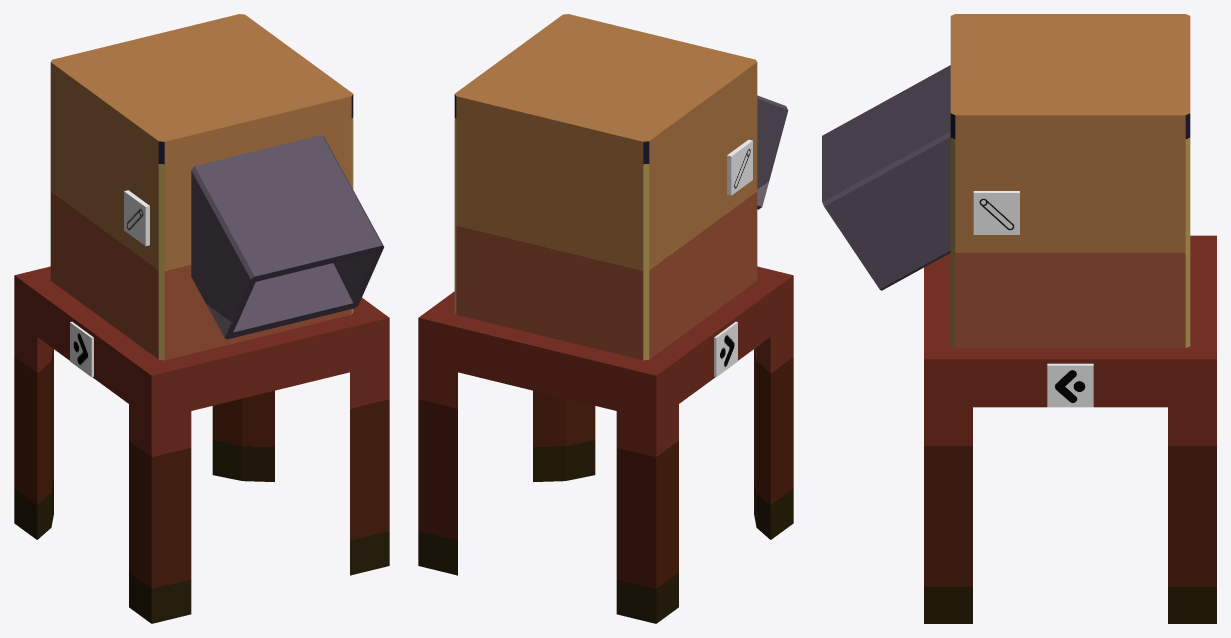
File: ClipGenerator.fbx
3 views of the same model, side by side, from view 1: azimuth 30°, elevation 25°; view 2: azimuth 150°, elevation 25°; view 3: azimuth 270°, elevation 25° (orthographic). The views are drawn at different scales.
Visible parts, largest first — view 1: Cube.003, Cube.001, Plane.002, Plane.001; view 2: Cube.003, Cube.001, Plane.002, Plane.001; view 3: Cube.003, Cube.001, Plane.004, Plane.003.
Boxes of the visible parts, x1,y1,x2,y2 form: Cube.003: (14, 14, 389, 623); Cube.001: (191, 135, 383, 339); Plane.002: (124, 190, 149, 246); Plane.001: (70, 321, 93, 377); Cube.003: (418, 14, 793, 623); Cube.001: (757, 95, 788, 209); Plane.002: (727, 139, 752, 195); Plane.001: (714, 321, 737, 377); Cube.003: (924, 14, 1216, 623); Cube.001: (822, 65, 950, 290); Plane.004: (1047, 363, 1093, 407); Plane.003: (973, 191, 1019, 234).
Size of the model in its own units: 205 by 375 by 270.
